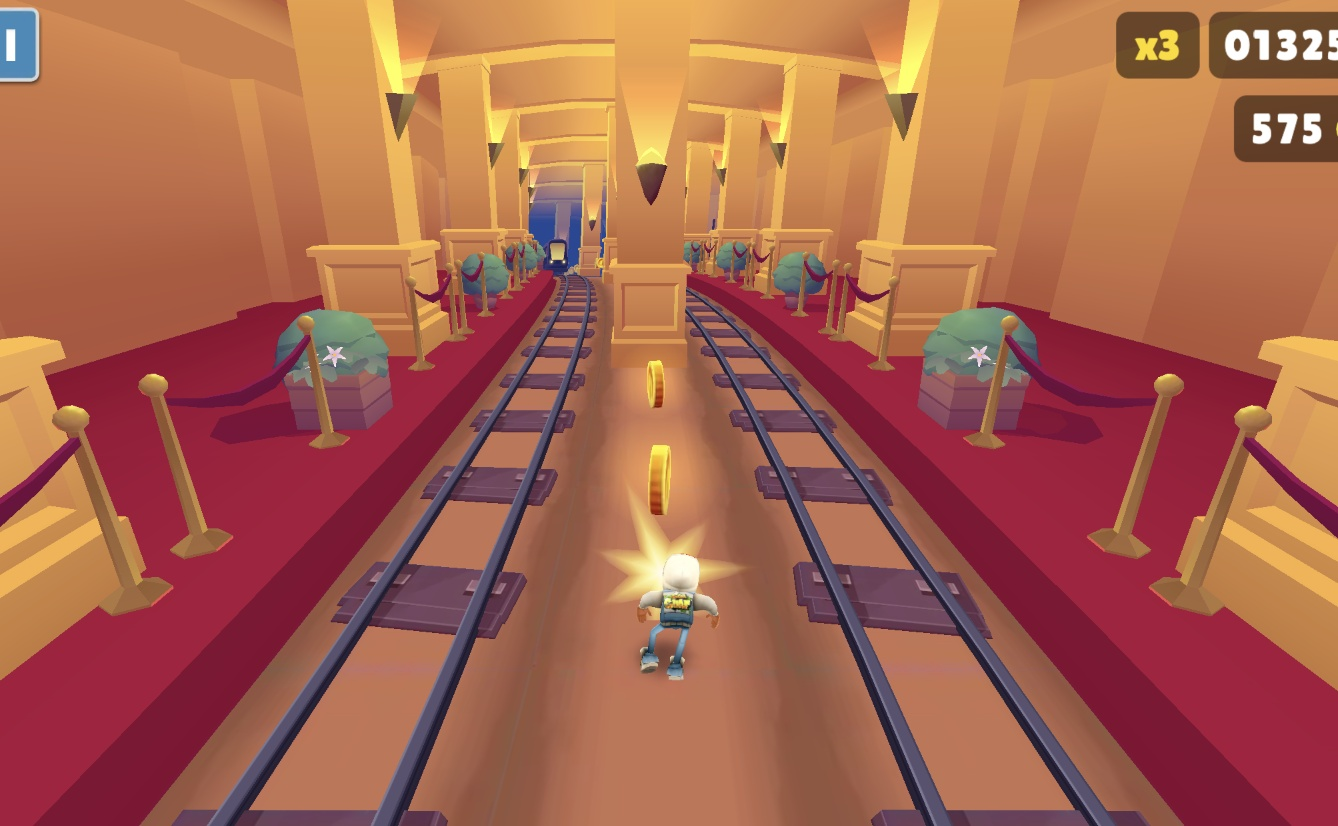pillar: (609, 0, 699, 397)
train: (542, 215, 564, 275)
